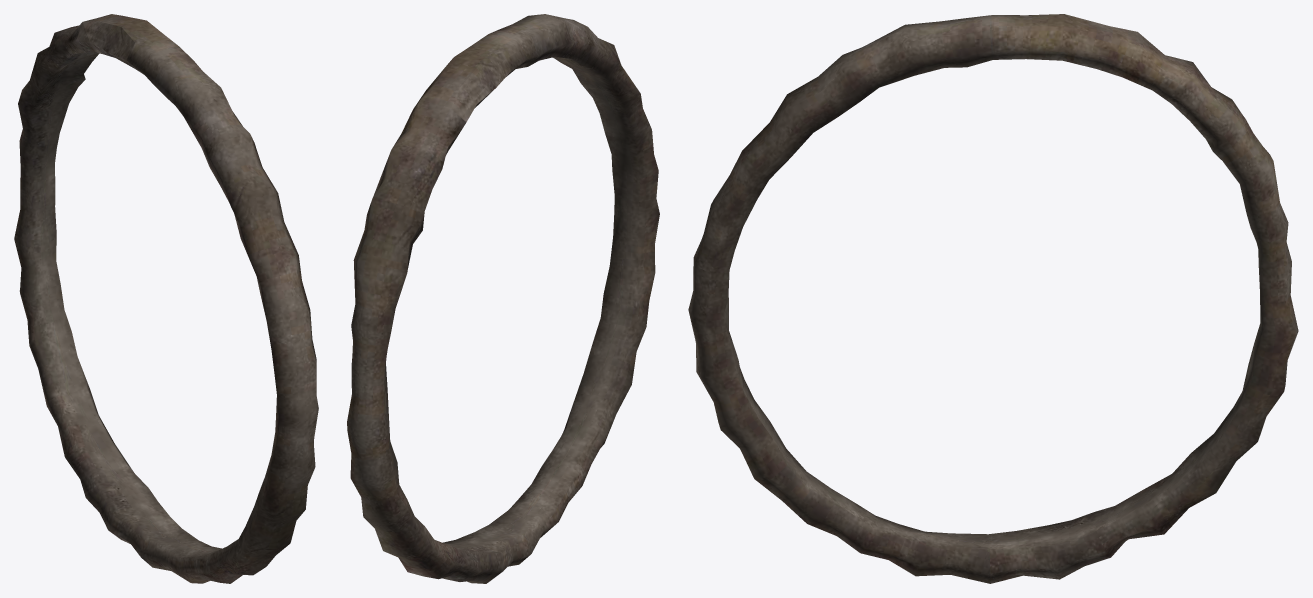
Rendered from antiquity7_75.fbx.
3 views of the same model, side by side, from view 1: azimuth 30°, elevation 25°; view 2: azimuth 150°, elevation 25°; view 3: azimuth 270°, elevation 25° (orthographic). The views are drawn at different scales.
Parts seen in each view (by area): view 1: default; view 2: default; view 3: default.
Part boxes in pixels (x1,y1,x2,y2): default: (14, 14, 318, 583); default: (347, 14, 659, 583); default: (688, 14, 1298, 583).
Size of the model in its own units: 4.26 by 38.65 by 38.11.
1 material, 1 textured.
